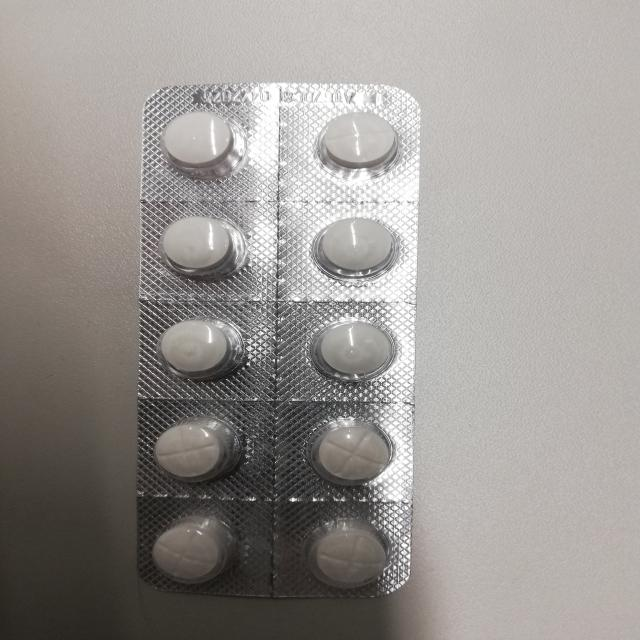Pill: (289, 518, 402, 597), (139, 410, 248, 488), (139, 310, 255, 383), (145, 202, 248, 280), (300, 414, 402, 490), (296, 314, 406, 383), (141, 515, 239, 592), (146, 104, 250, 175), (298, 107, 404, 176), (309, 214, 398, 285)
